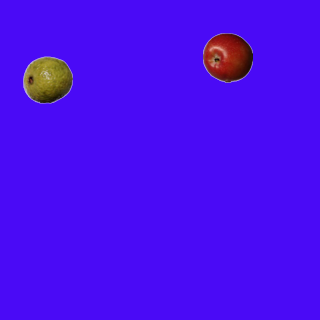Apple Braeburn: (202, 32, 252, 82)
Guava: (22, 54, 72, 104)
